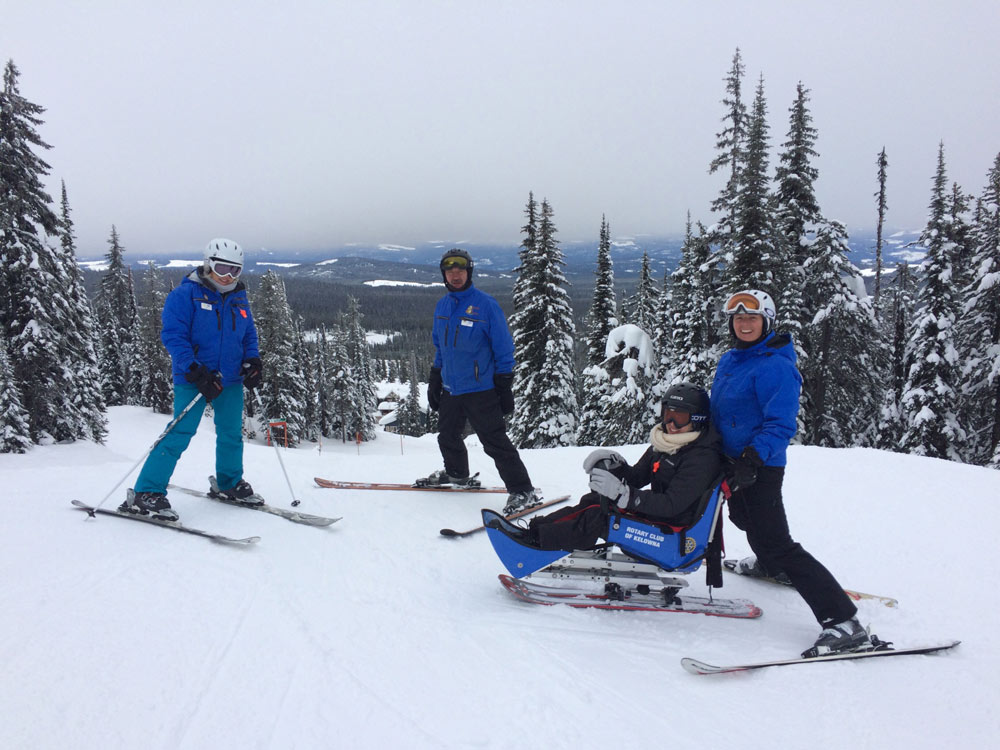Person: (708, 284, 880, 654), (498, 374, 717, 557), (140, 236, 269, 514), (419, 245, 537, 506)
